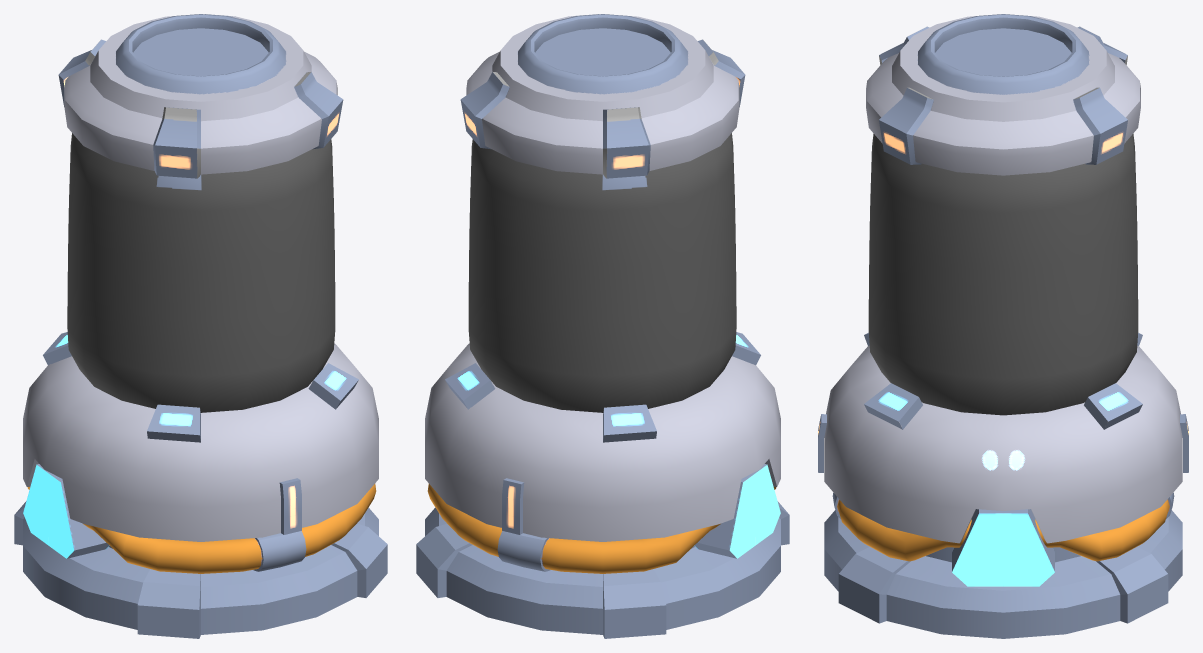
The model's file is Prop_Capsula.fbx.
3 views of the same model, side by side, from view 1: azimuth 30°, elevation 25°; view 2: azimuth 150°, elevation 25°; view 3: azimuth 270°, elevation 25° (orthographic).
Parts seen in each view (by area): view 1: Low_Capsula; view 2: Low_Capsula; view 3: Low_Capsula.
Boxes of the visible parts, <box> form: Low_Capsula: <box>14,14,387,638</box>; Low_Capsula: <box>416,14,789,638</box>; Low_Capsula: <box>818,14,1188,638</box>.
Size of the model in its own units: 20.26 by 31.75 by 20.66.
1 material, 1 textured.
